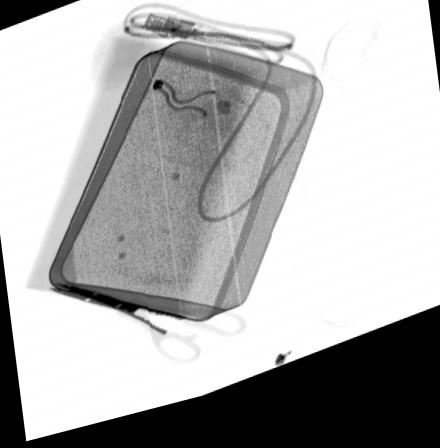Scissors: (48, 283, 232, 377)
